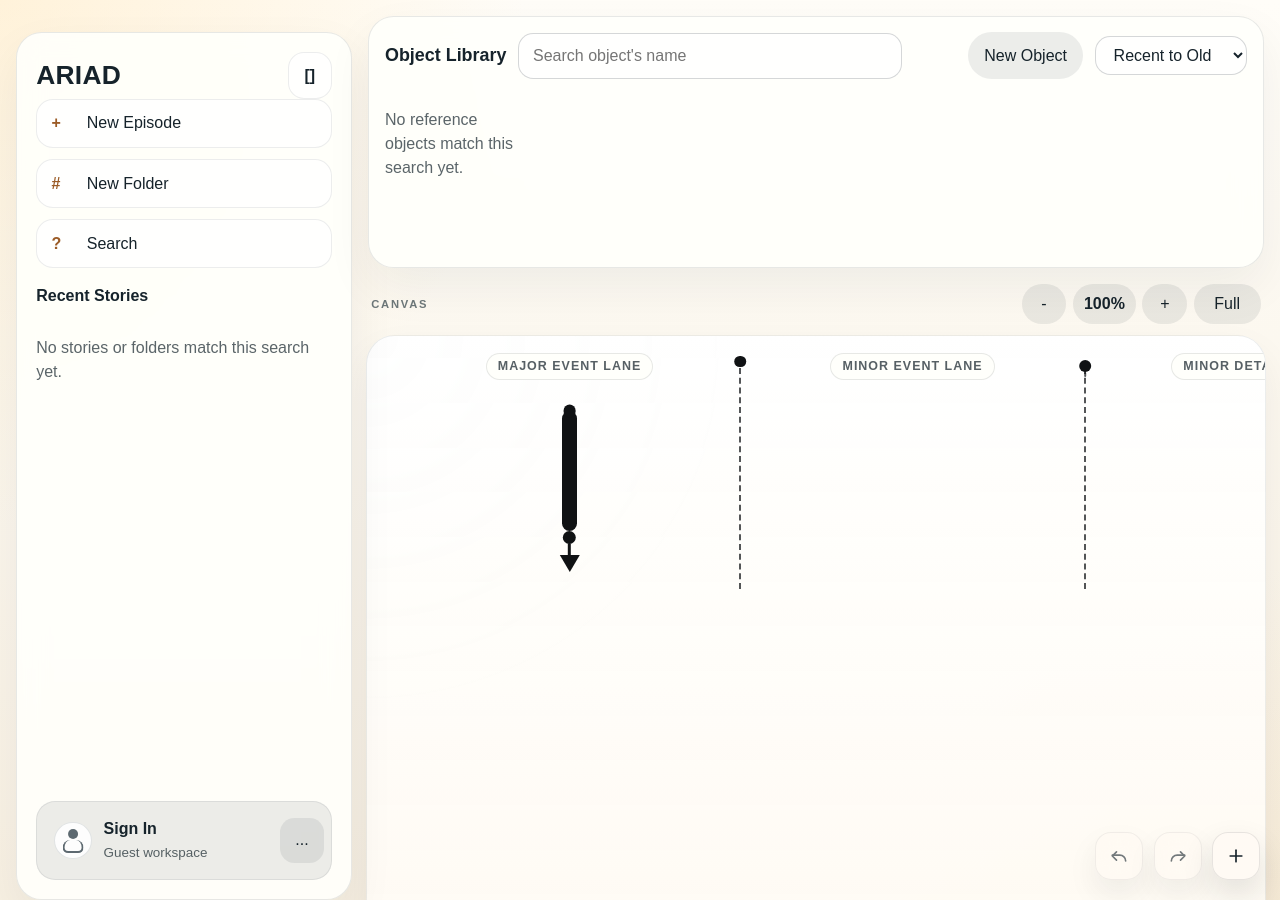
Test: workspace shell recommendation flow › keeps the workspace shell visible after the last episode is deleted
Check: the heading "ARIAD" is shown, box x1=36 y1=56 x2=121 y2=95
Click the button "+ New Episode": (184, 124) x1=36 y1=99 x2=332 y2=148
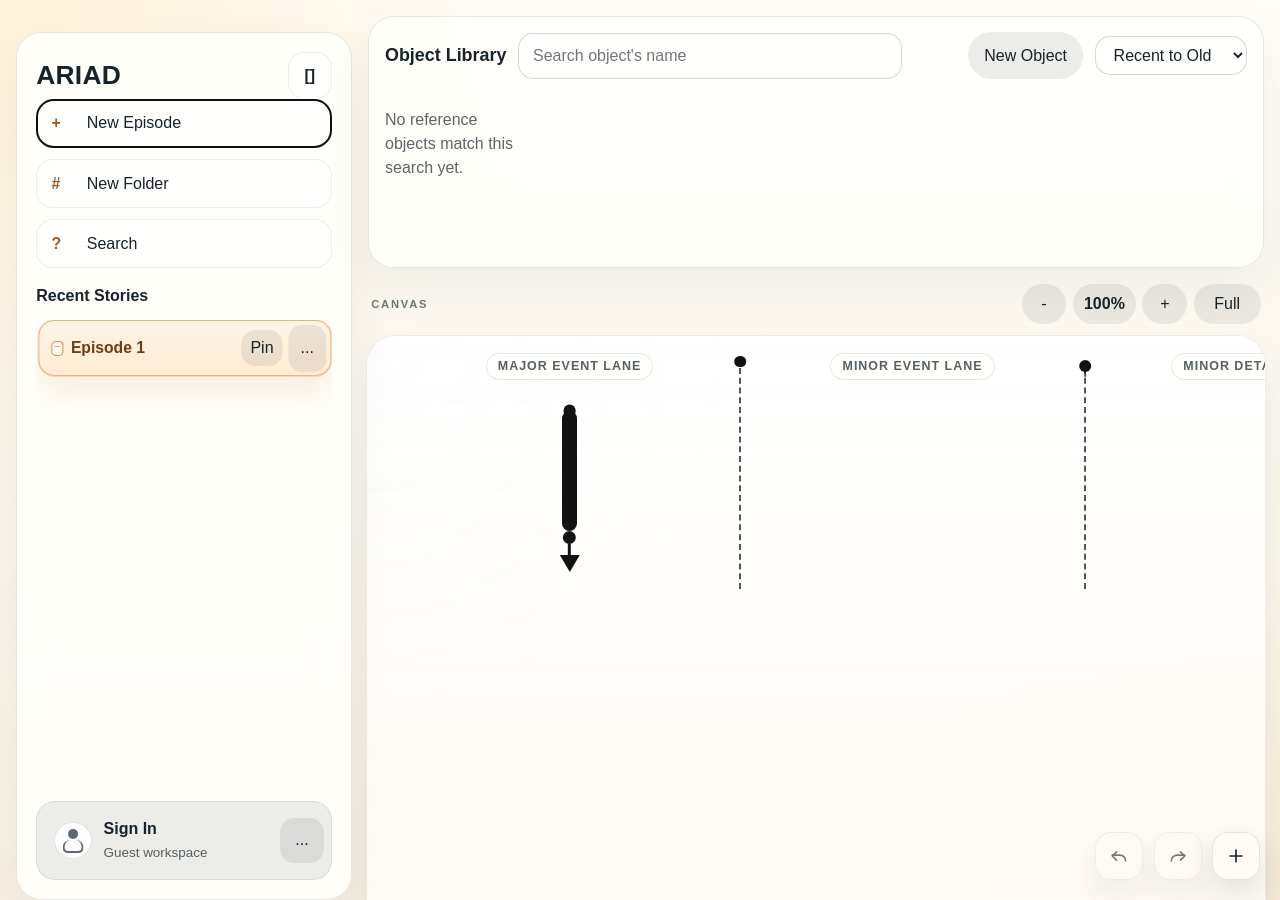
Click the button named "More Episode 1": (307, 348) x1=288 y1=325 x2=326 y2=372
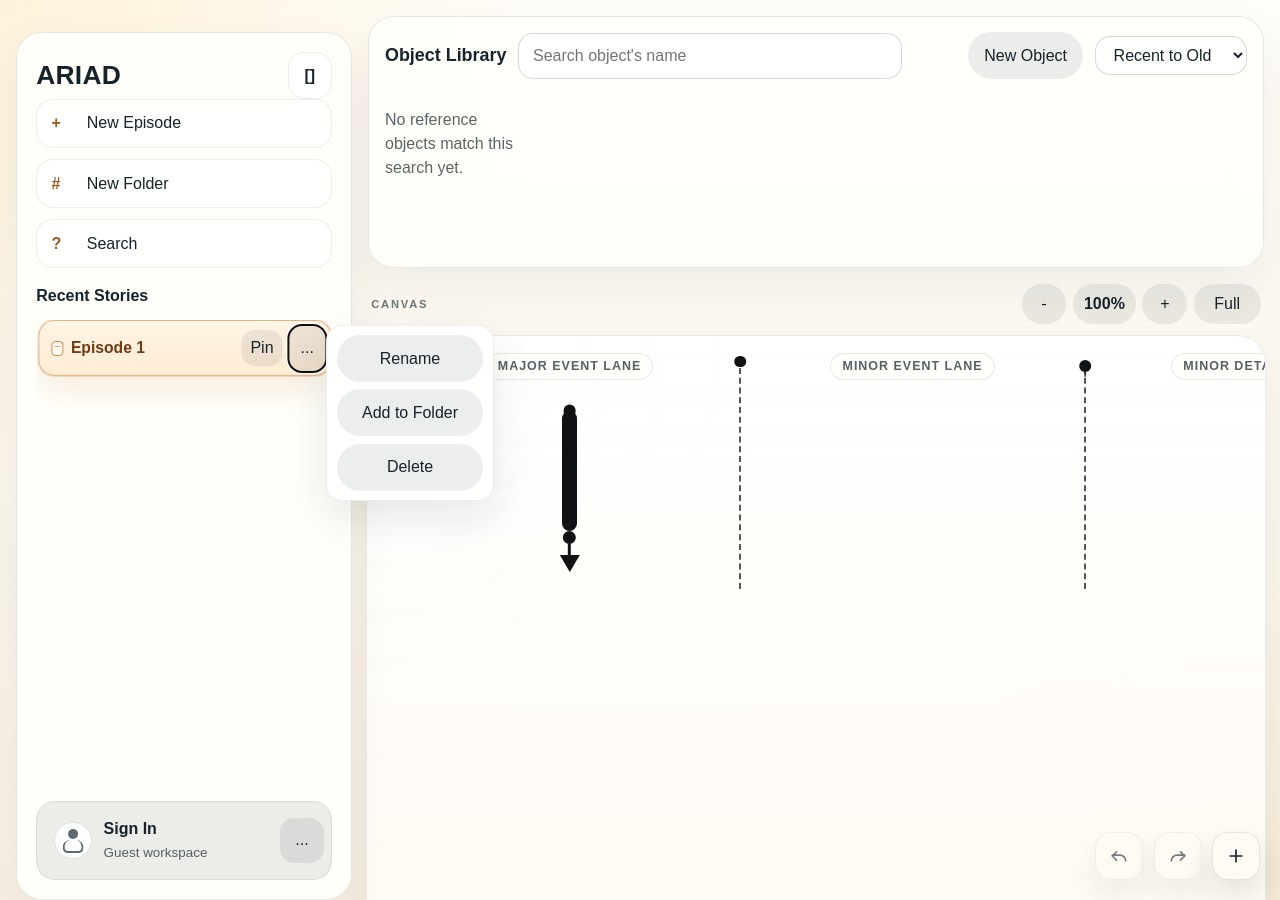
Check: the button "Delete" is enabled
Click the button "Delete": (410, 467) x1=337 y1=444 x2=483 y2=491
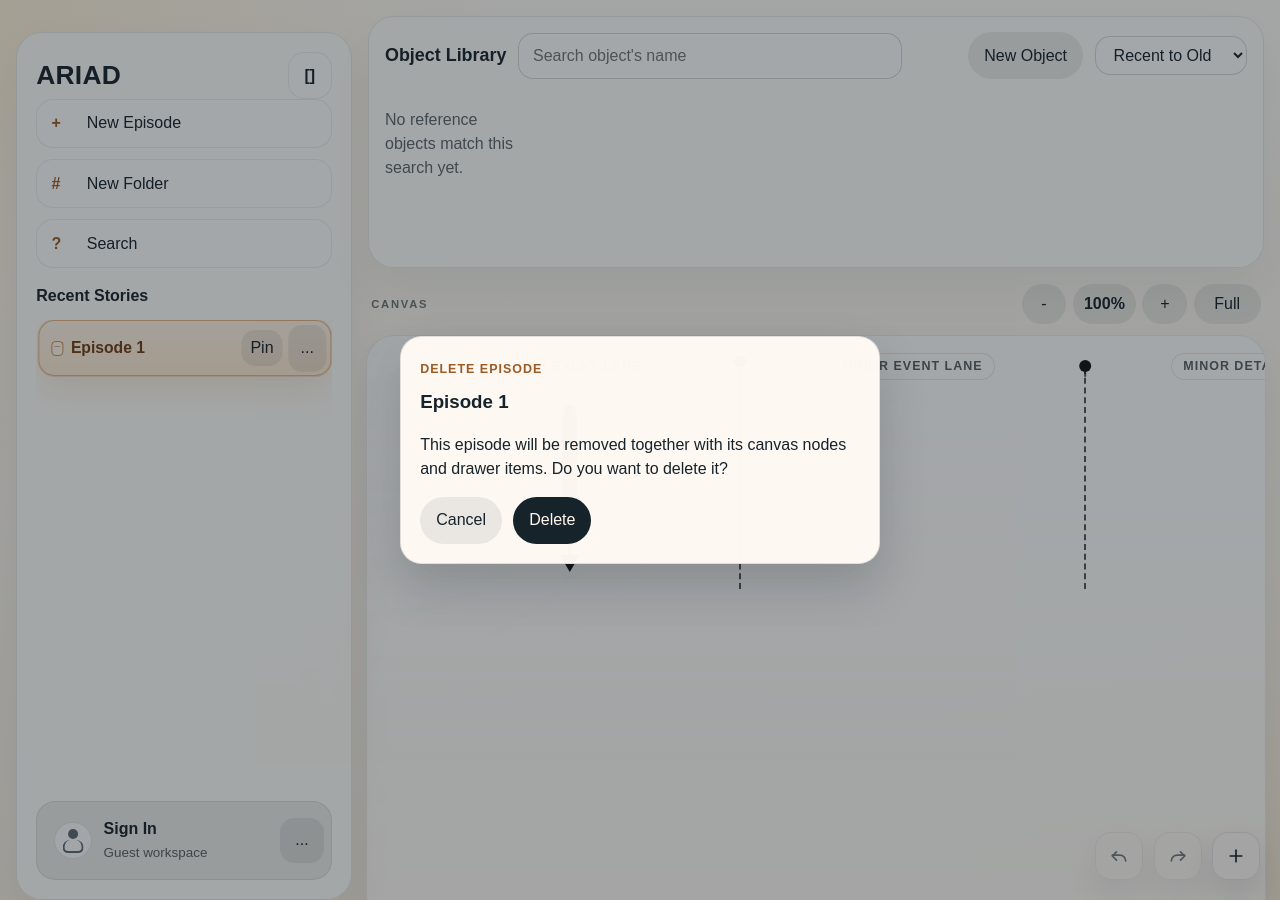
Click the button "Delete": (552, 520) x1=513 y1=496 x2=592 y2=544
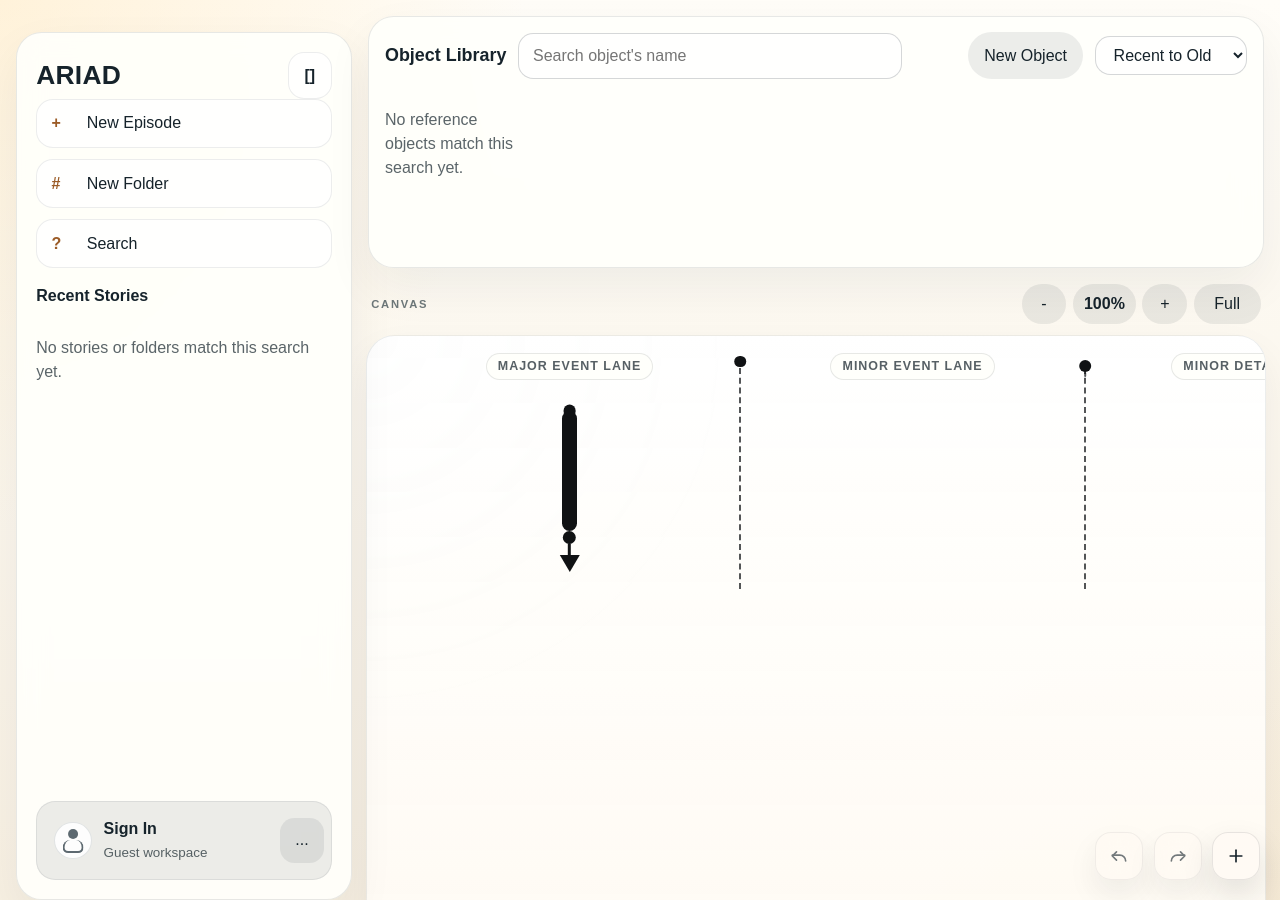
Check: the heading "ARIAD" is shown, box x1=36 y1=56 x2=121 y2=95
Check: the button "Episode 1" is gone
